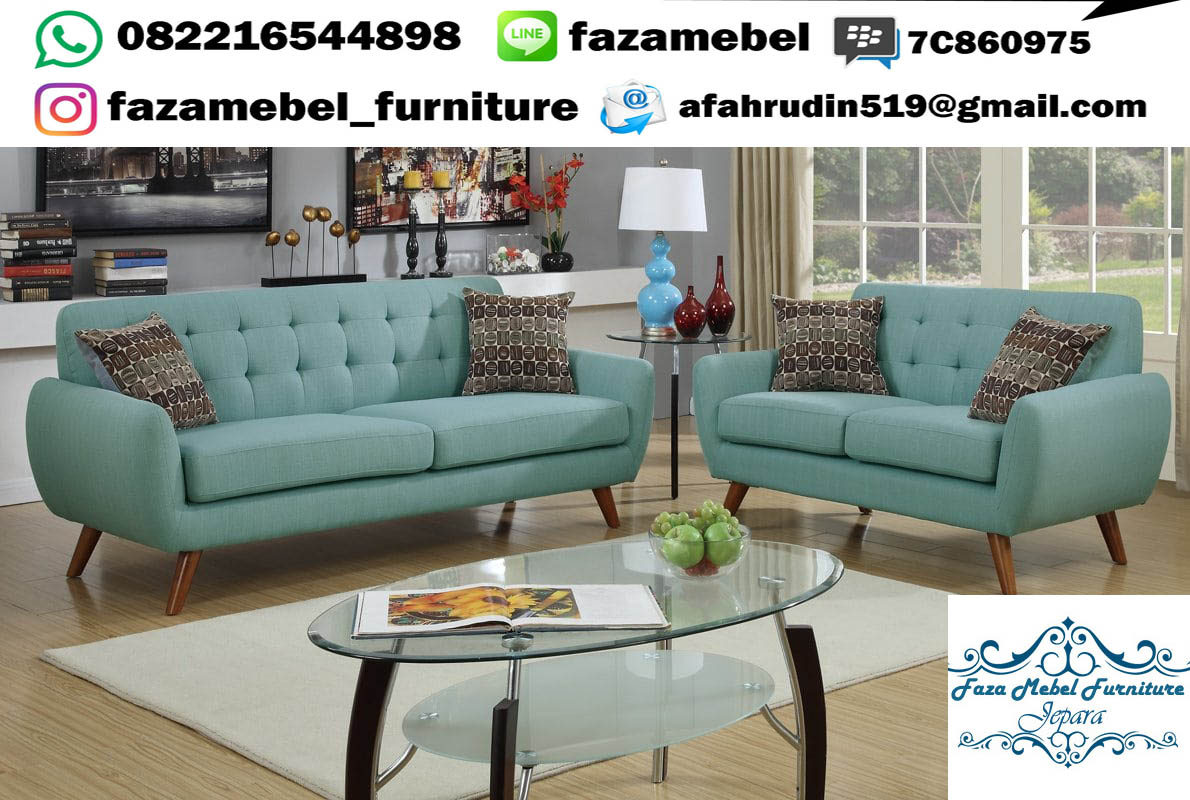bantal: (78, 321, 215, 423), (772, 295, 889, 396), (463, 289, 575, 392), (994, 306, 1100, 385)
buku: (354, 589, 674, 631), (1, 206, 71, 298), (87, 247, 177, 297)
lampu: (613, 164, 698, 326)
lukisan: (35, 146, 275, 235), (346, 148, 531, 231)
meja: (287, 528, 837, 800)
sova: (25, 281, 672, 532), (688, 280, 1174, 517)
tanaman: (492, 161, 595, 269)
